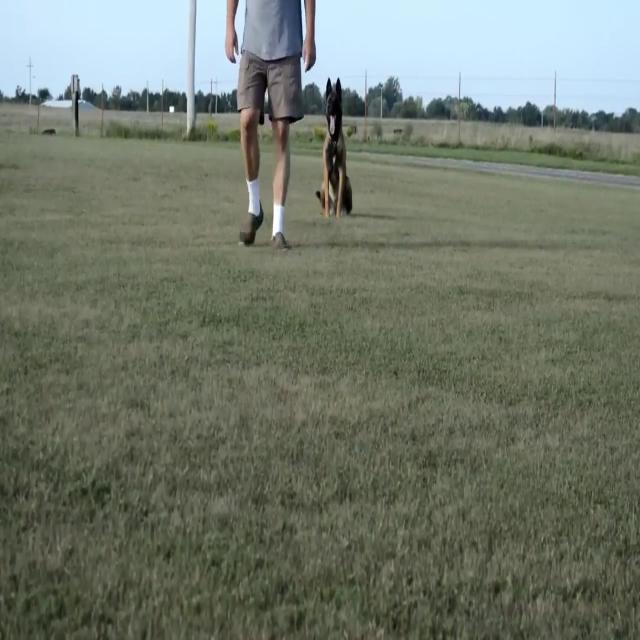Unleashed_Dog: (272, 76, 352, 215)
